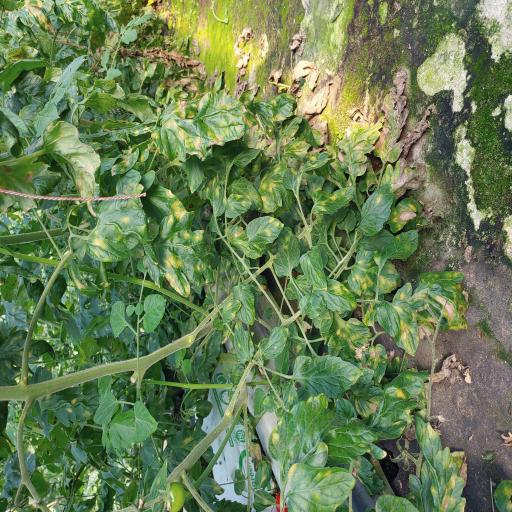Healthy: (108, 400, 158, 450), (142, 293, 166, 334), (93, 391, 119, 425), (110, 300, 126, 338), (274, 344, 290, 374), (98, 48, 110, 72), (104, 66, 122, 80), (182, 358, 192, 376)
Leaf Mold: (268, 392, 382, 480), (85, 194, 166, 289), (151, 101, 256, 163), (409, 408, 466, 512), (154, 210, 219, 298), (43, 120, 101, 218), (361, 367, 430, 440), (392, 270, 469, 333), (0, 156, 62, 214), (287, 461, 356, 512), (0, 326, 56, 386), (292, 355, 364, 399), (336, 116, 385, 176), (325, 311, 373, 369), (196, 91, 260, 131), (348, 249, 402, 296), (376, 298, 419, 356), (40, 385, 99, 427), (54, 0, 120, 34), (8, 0, 58, 40), (283, 151, 333, 191), (356, 184, 394, 236), (140, 184, 187, 225), (381, 158, 428, 198), (258, 162, 293, 214), (66, 258, 112, 297), (254, 92, 298, 132), (373, 229, 418, 266), (310, 278, 358, 312), (227, 224, 271, 259), (171, 430, 215, 464), (245, 215, 284, 252), (303, 157, 347, 189), (273, 226, 300, 278), (299, 245, 328, 291), (280, 115, 318, 150), (388, 196, 423, 233), (312, 185, 355, 215), (228, 177, 263, 211), (115, 169, 144, 209), (354, 380, 384, 418), (232, 281, 255, 325), (258, 326, 288, 359), (150, 458, 168, 512), (108, 124, 152, 145), (4, 300, 34, 330), (234, 320, 254, 363), (205, 174, 225, 216), (111, 148, 139, 176), (374, 494, 417, 512), (369, 343, 388, 383), (225, 193, 252, 219), (359, 156, 378, 192), (493, 478, 512, 512), (281, 379, 299, 412), (284, 140, 311, 160), (253, 490, 277, 511), (222, 299, 242, 323), (254, 462, 270, 490), (234, 466, 245, 496), (262, 395, 280, 413), (196, 399, 213, 418), (230, 364, 245, 384)
